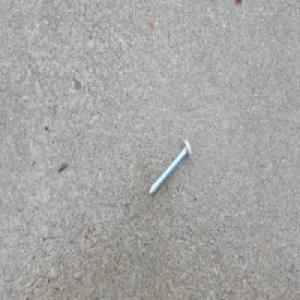Nail: (146, 138, 193, 200)
